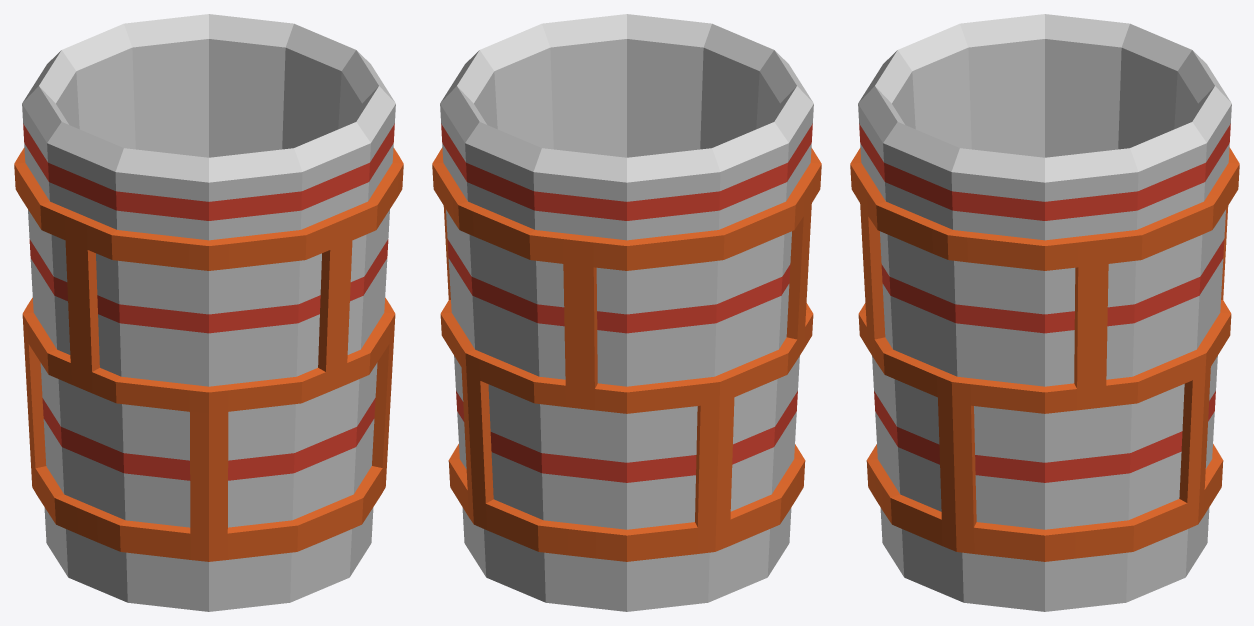
Rendered from Empty Can.fbx.
The picture shows the model from 3 angles, left to right: view 1: azimuth 30°, elevation 25°; view 2: azimuth 150°, elevation 25°; view 3: azimuth 270°, elevation 25°; orthographic projection.
Visible parts, largest first — view 1: Cylinder; view 2: Cylinder; view 3: Cylinder.
Boxes of the visible parts, left/top/right/bottom form: Cylinder: left=14, top=14, right=403, bottom=611; Cylinder: left=432, top=14, right=821, bottom=611; Cylinder: left=850, top=14, right=1239, bottom=611.
Size of the model in its own units: 240 by 311 by 240.
